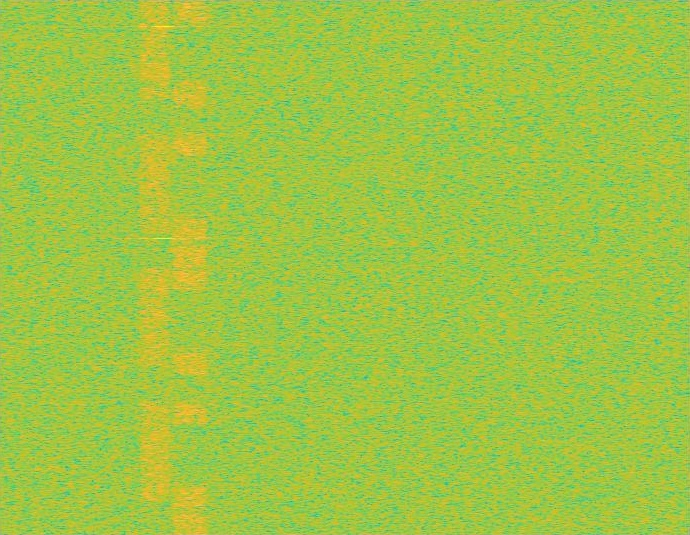5G: (138, 0, 173, 534)
LTE: (173, 0, 207, 534)
Radar: (157, 0, 171, 534)
